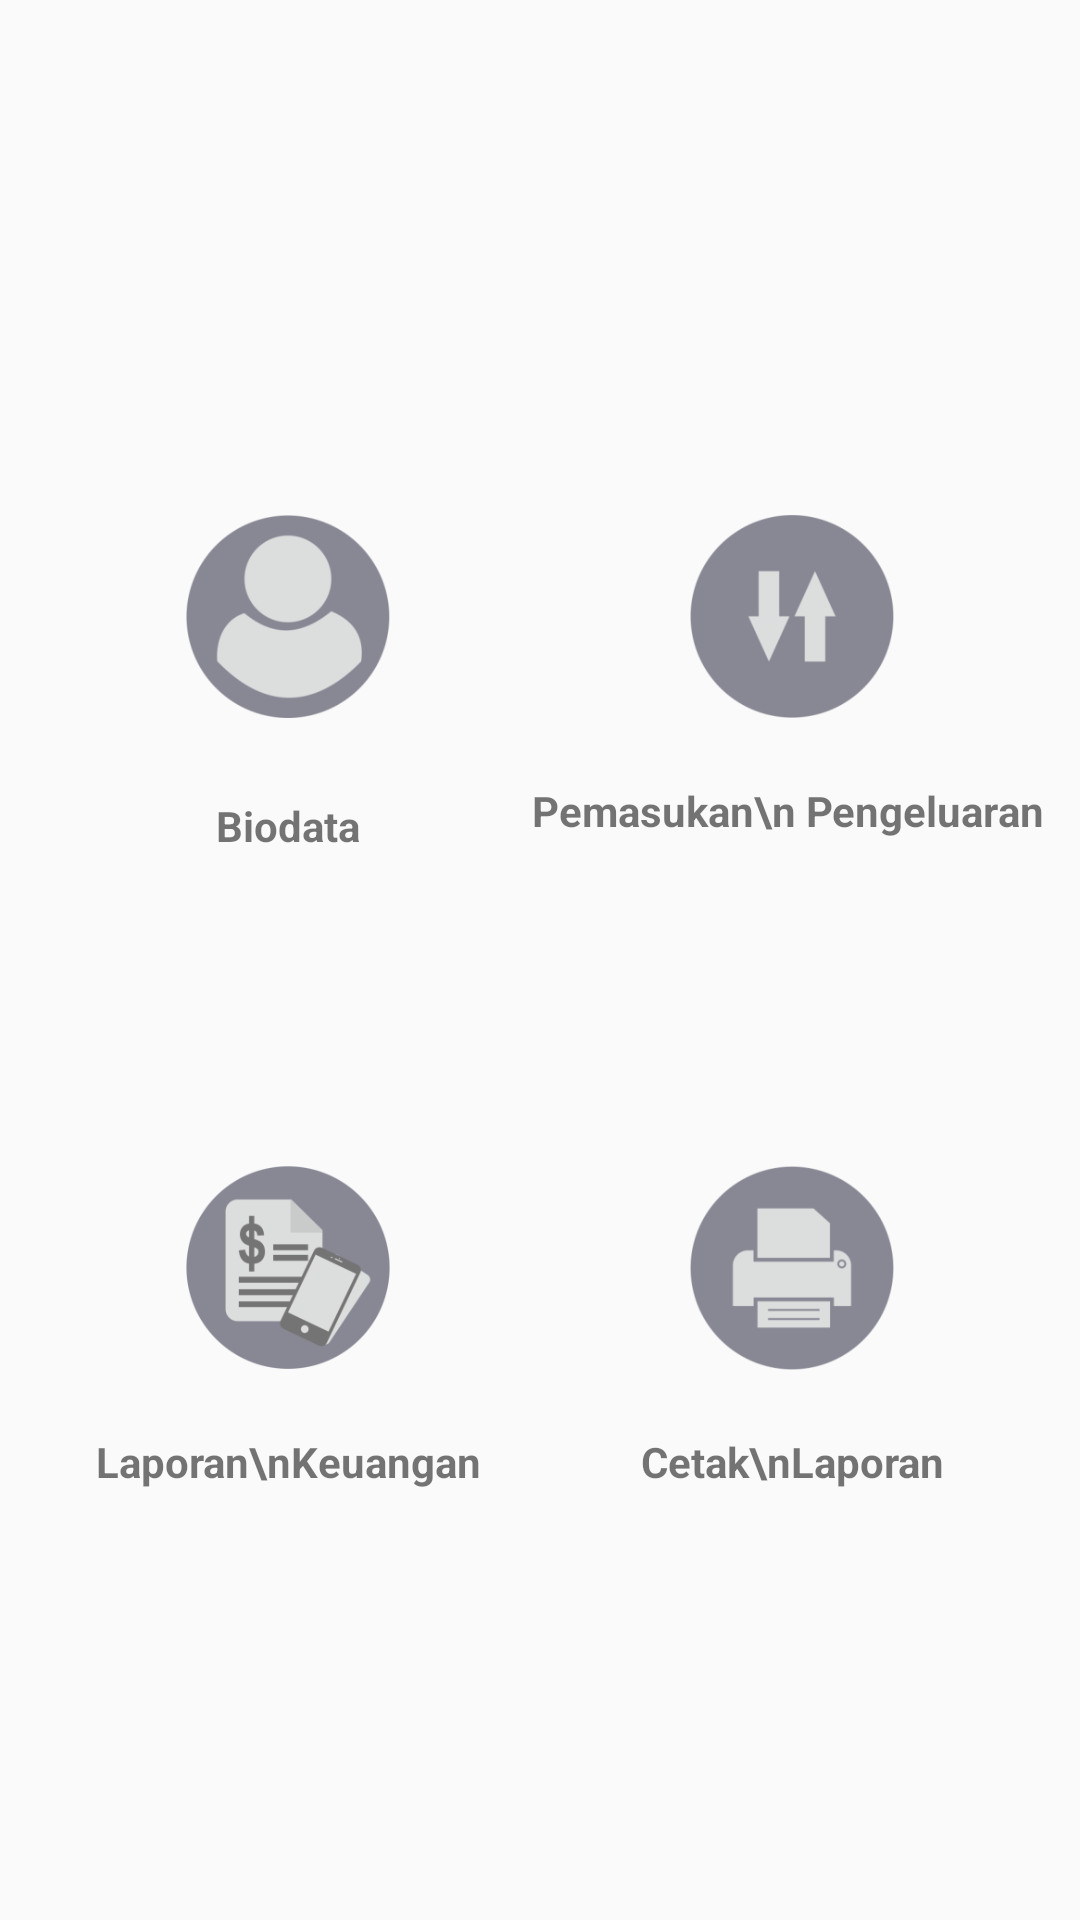

Named icons in this screenshot (1080×1920) and their centers, [x,y]:
inout: [792,616]
print: [792,1268]
user: [288,616]
